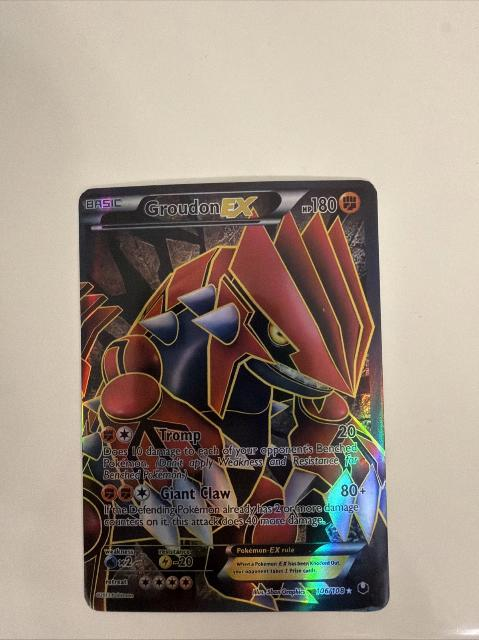Card: (76, 175, 394, 613)
Name: (142, 193, 265, 225)
